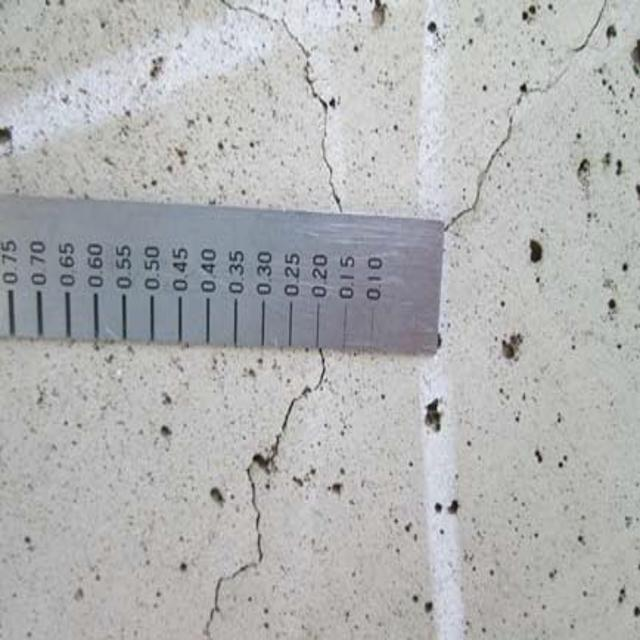crack: (187, 350, 333, 640), (453, 2, 610, 235), (214, 3, 346, 210)
